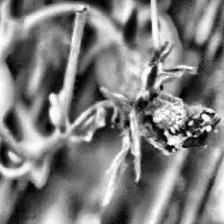Gray Mold: (101, 43, 224, 204)
